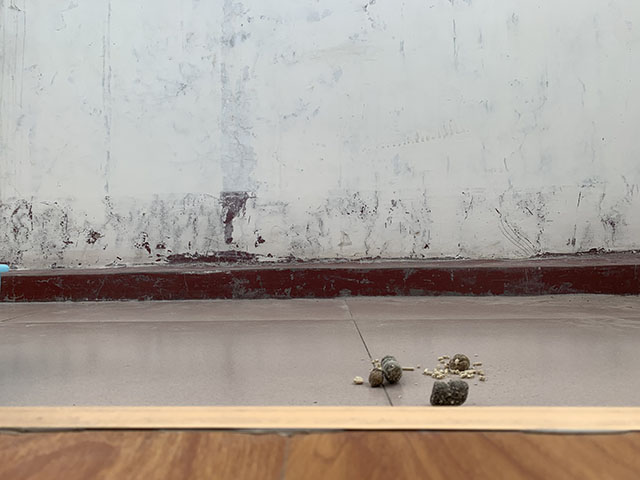feces: (368, 354, 402, 389), (429, 379, 470, 407), (448, 352, 471, 371)
